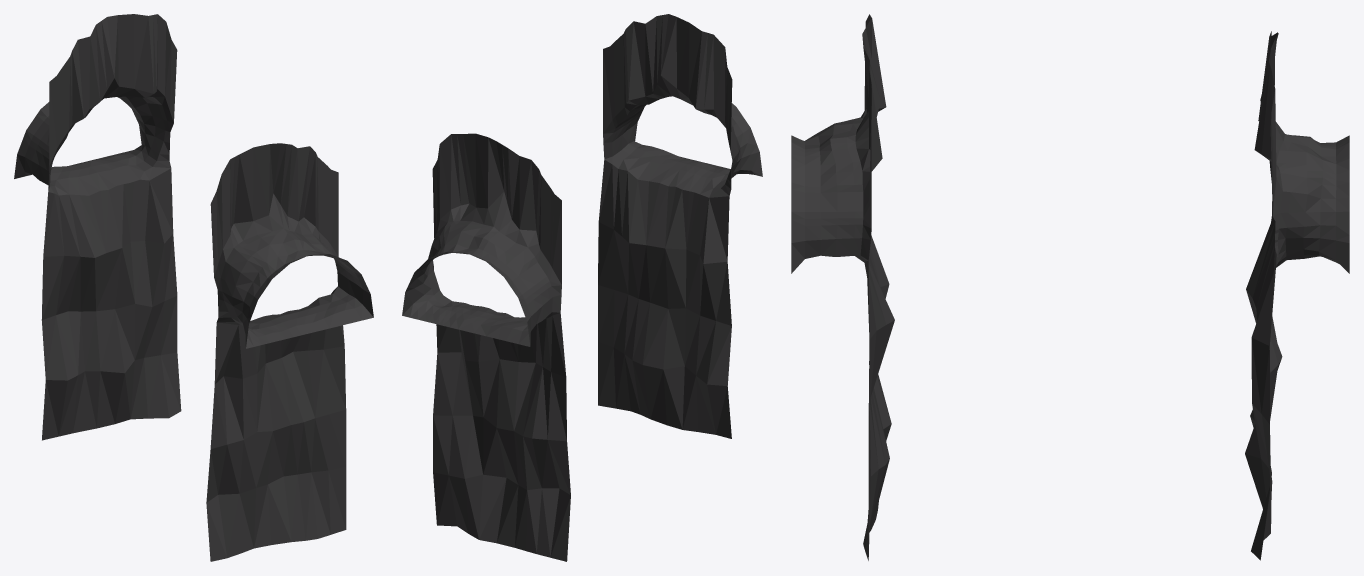
File: Cave_8A_LOD_1.fbx
The picture shows the model from 3 angles, left to right: view 1: azimuth 30°, elevation 25°; view 2: azimuth 150°, elevation 25°; view 3: azimuth 270°, elevation 25°; orthographic projection. The views are drawn at different scales.
Visible parts, largest first — view 1: polySurface1224; view 2: polySurface1224; view 3: polySurface1224.
Boxes of the visible parts, <box> form: polySurface1224: <box>14,14,373,561</box>; polySurface1224: <box>402,14,762,561</box>; polySurface1224: <box>791,14,1349,560</box>.
Size of the model in its own units: 8.82 by 24.99 by 25.9.
